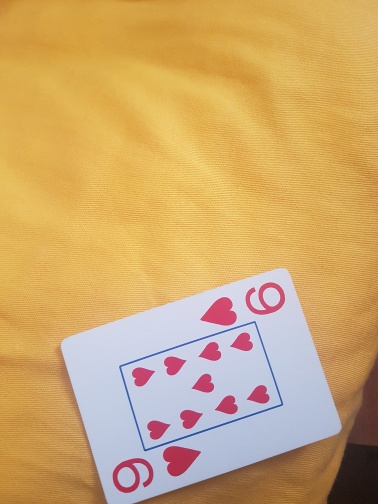nine: (60, 268, 341, 504)
